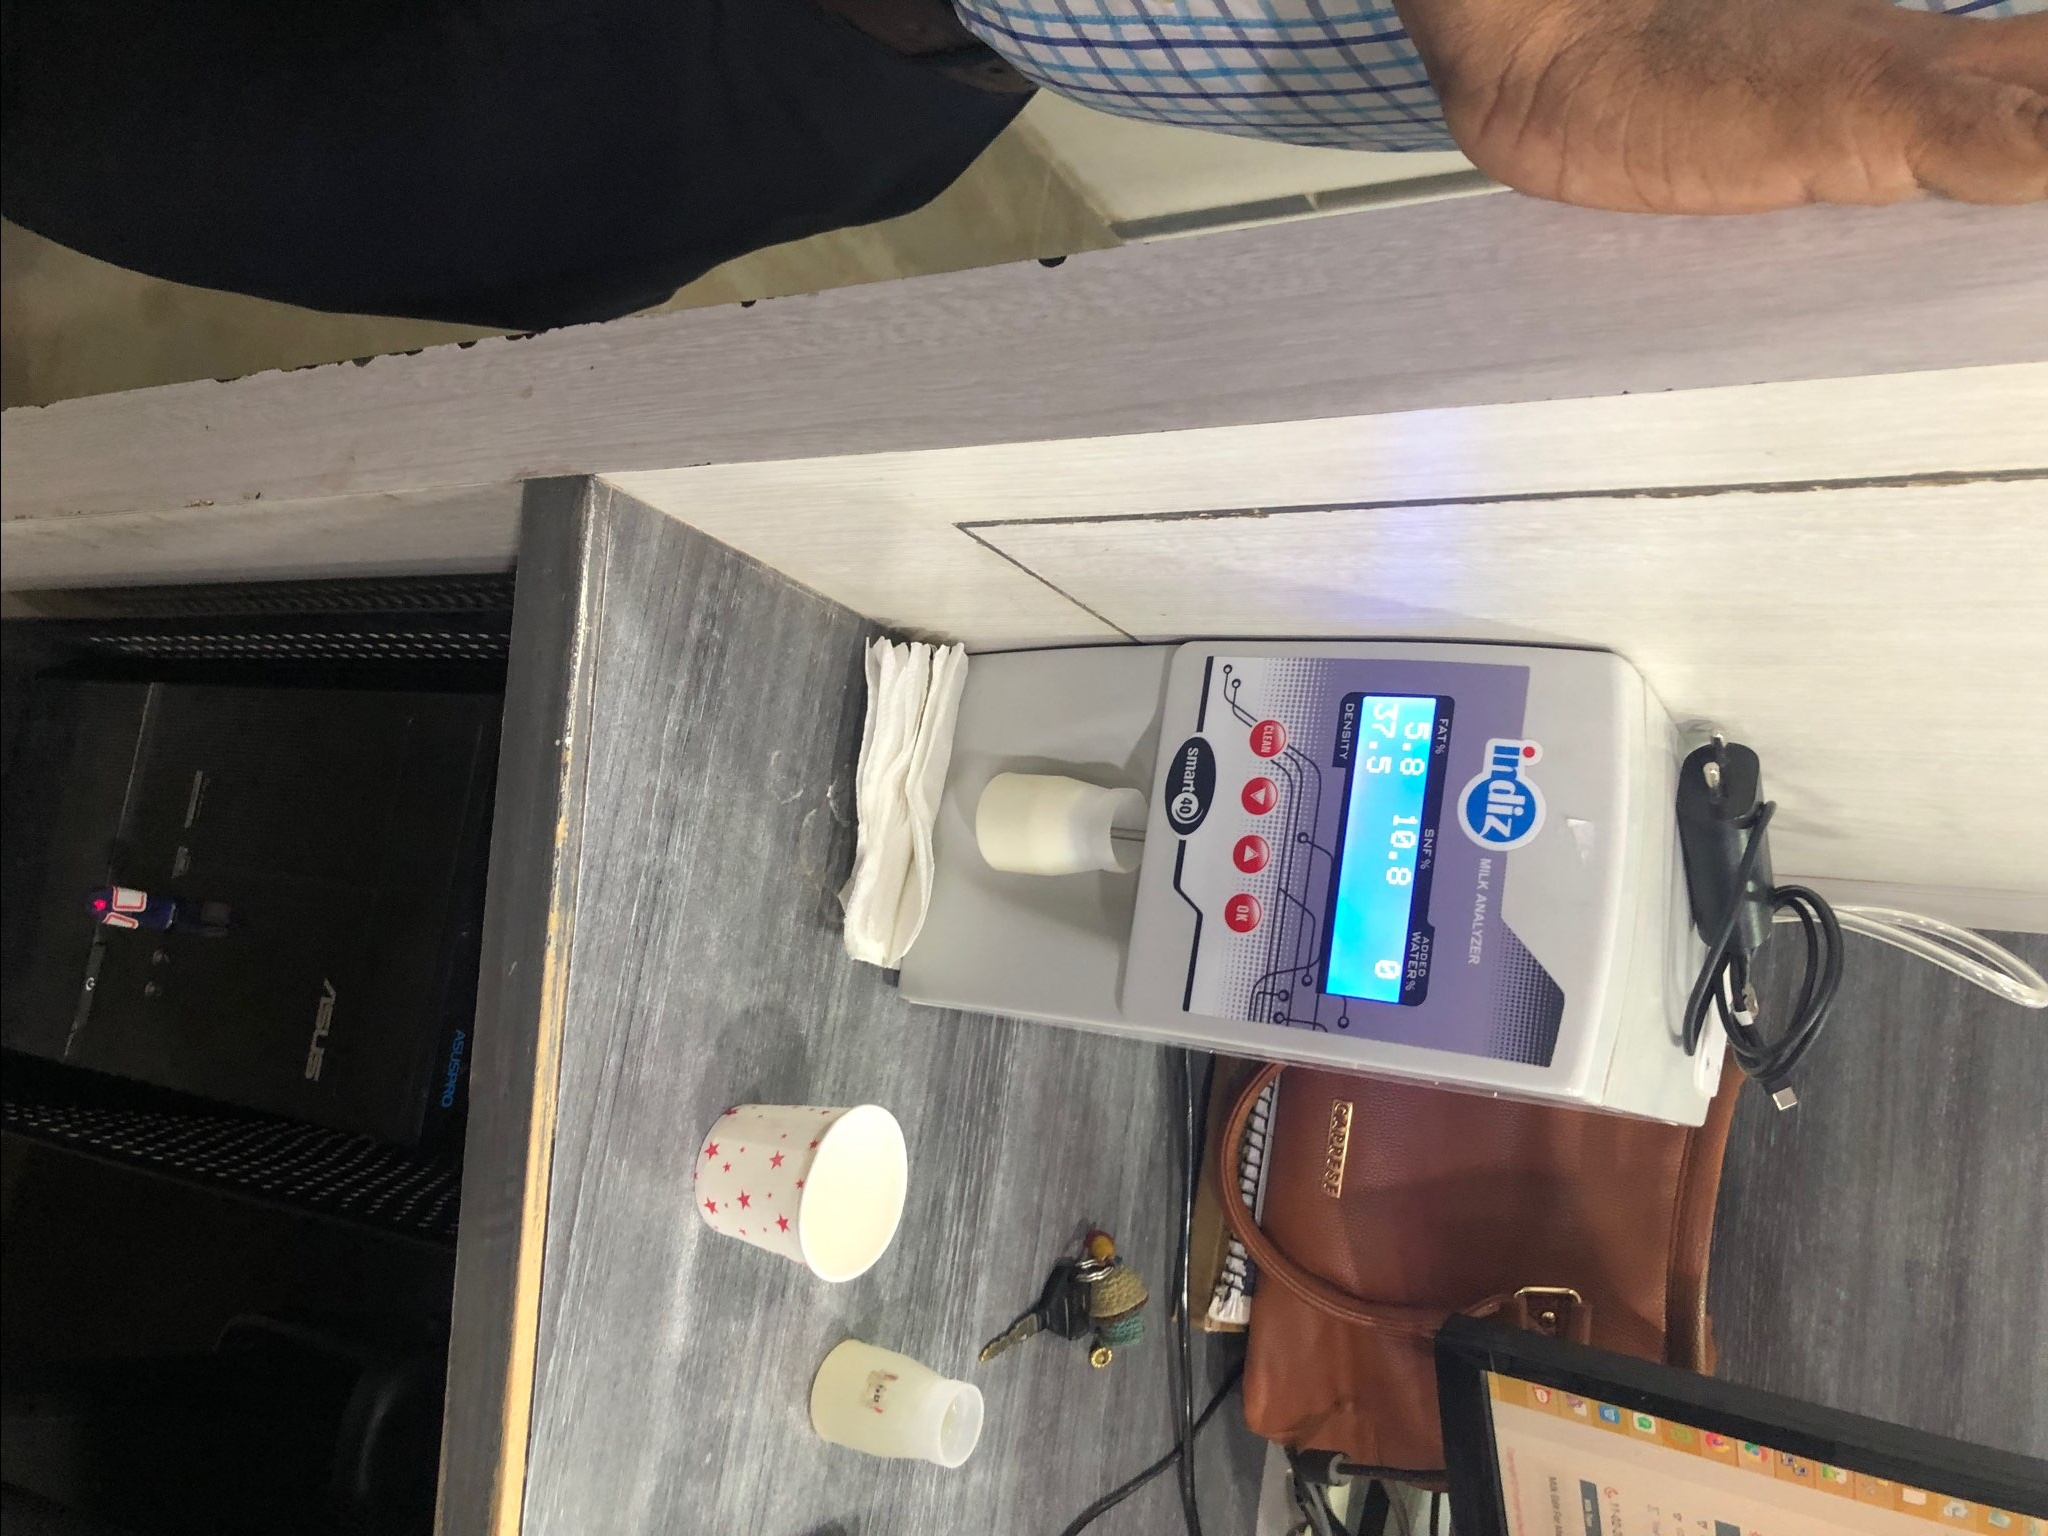lcd: (1330, 679, 1451, 1026)
